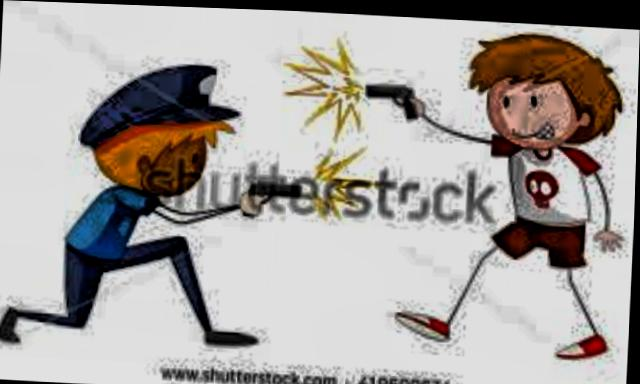pistol: (240, 173, 303, 213), (364, 76, 418, 114)
